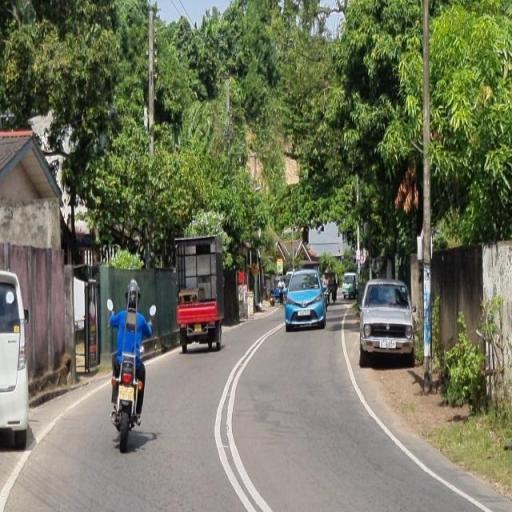double_white_line: (339, 316, 494, 510), (212, 323, 274, 512)
